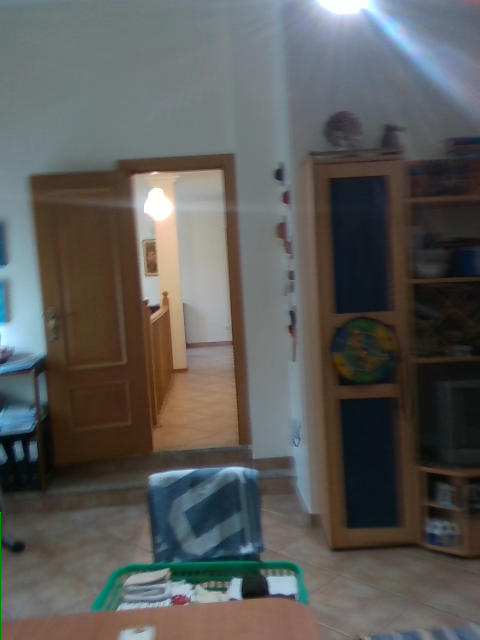open: (29, 152, 252, 468)
